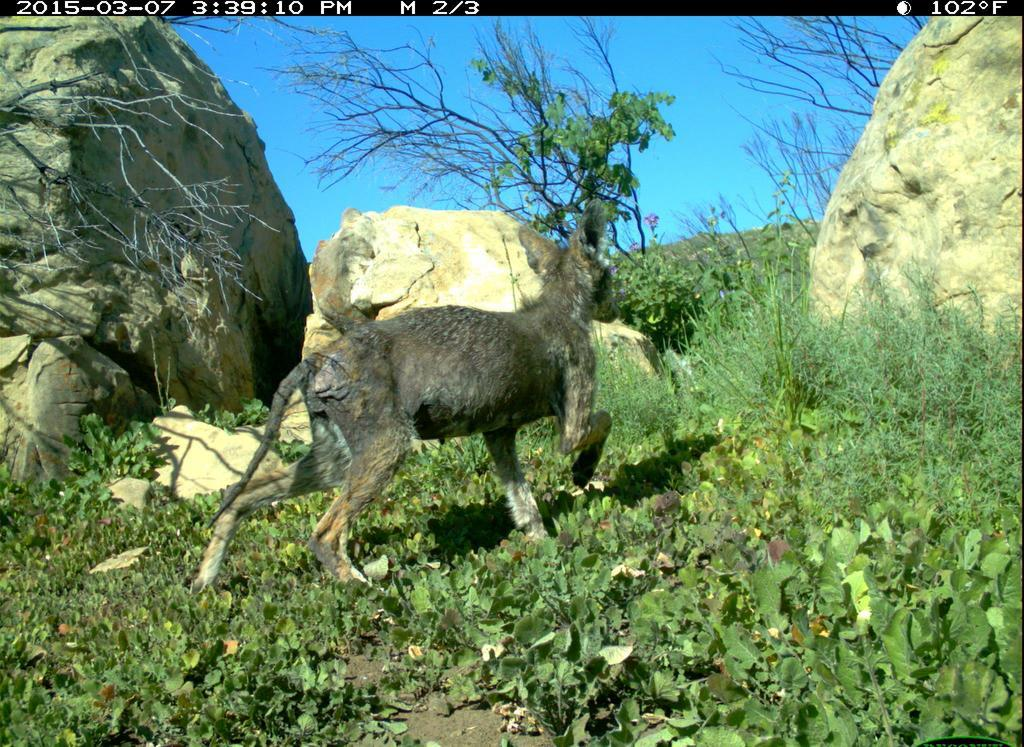coyote: (191, 196, 625, 584)
